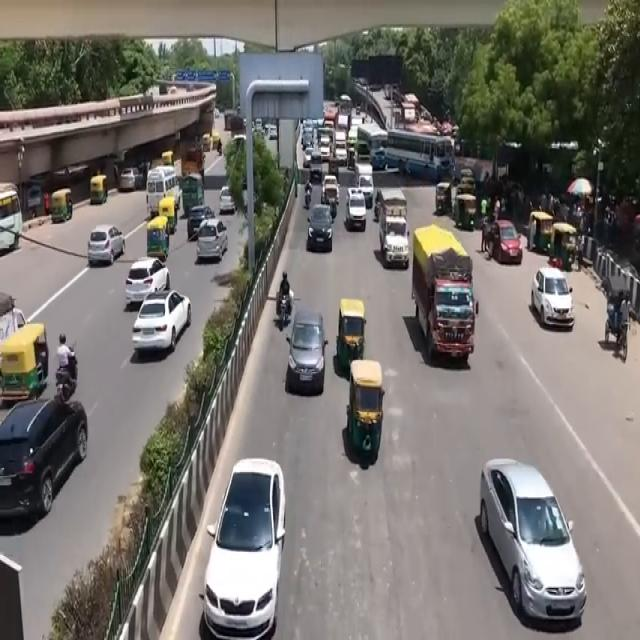BUS: (385, 126, 455, 182), (145, 168, 180, 226)
MOTORCYCLE: (278, 293, 292, 335)
TRUCK: (412, 228, 477, 366)
